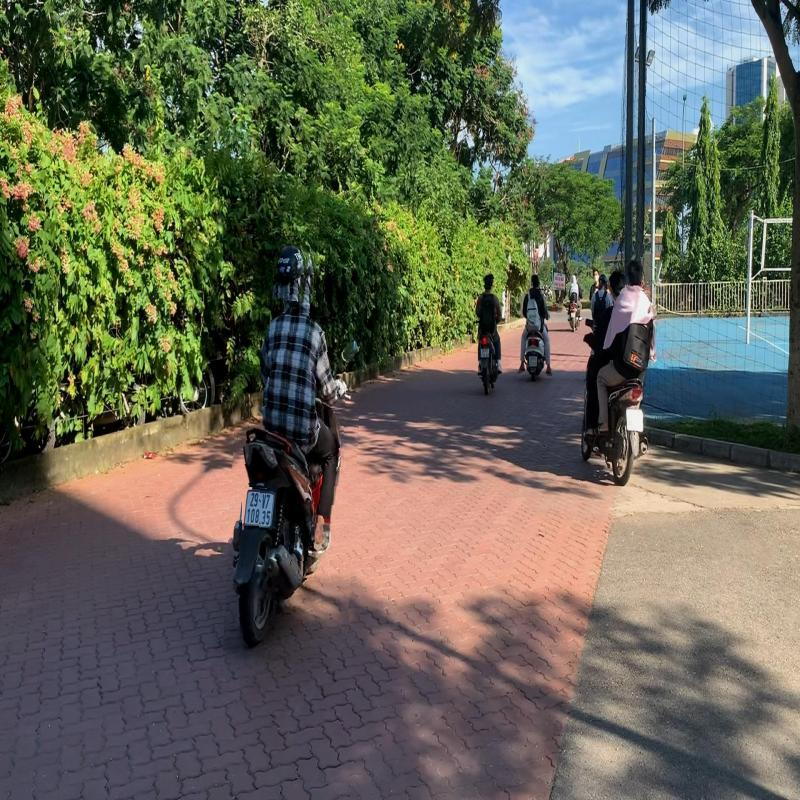helmet: (272, 244, 309, 302)
licenseplate: (242, 487, 276, 530)
motorcyclist: (228, 236, 364, 657)
nohelmet: (608, 266, 628, 301), (626, 258, 646, 292), (482, 270, 496, 293), (531, 273, 540, 289)
